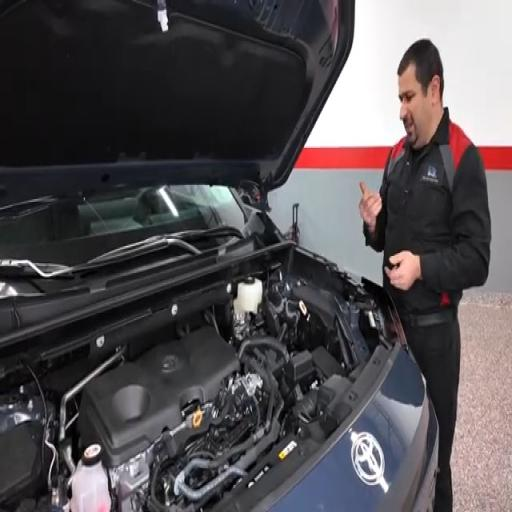bumper: (270, 350, 438, 511), (412, 403, 438, 511)
emblem: (352, 433, 384, 486)
hood: (0, 0, 354, 204)
windshield: (0, 185, 244, 264)
